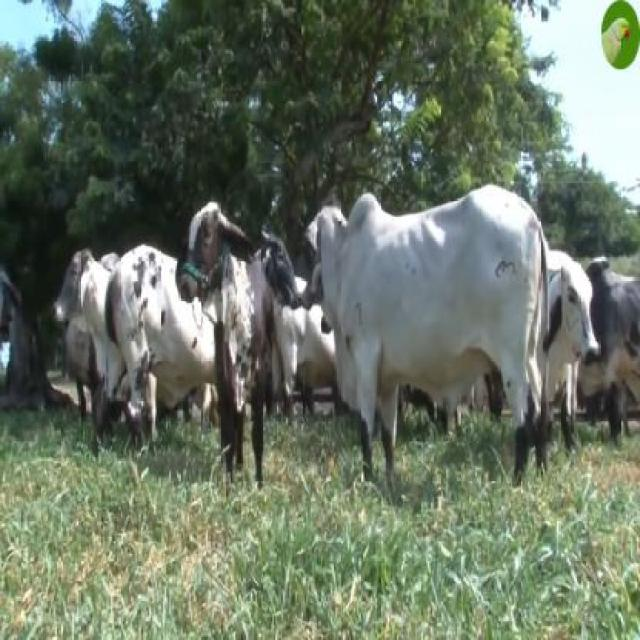Cow: (312, 180, 545, 488)
